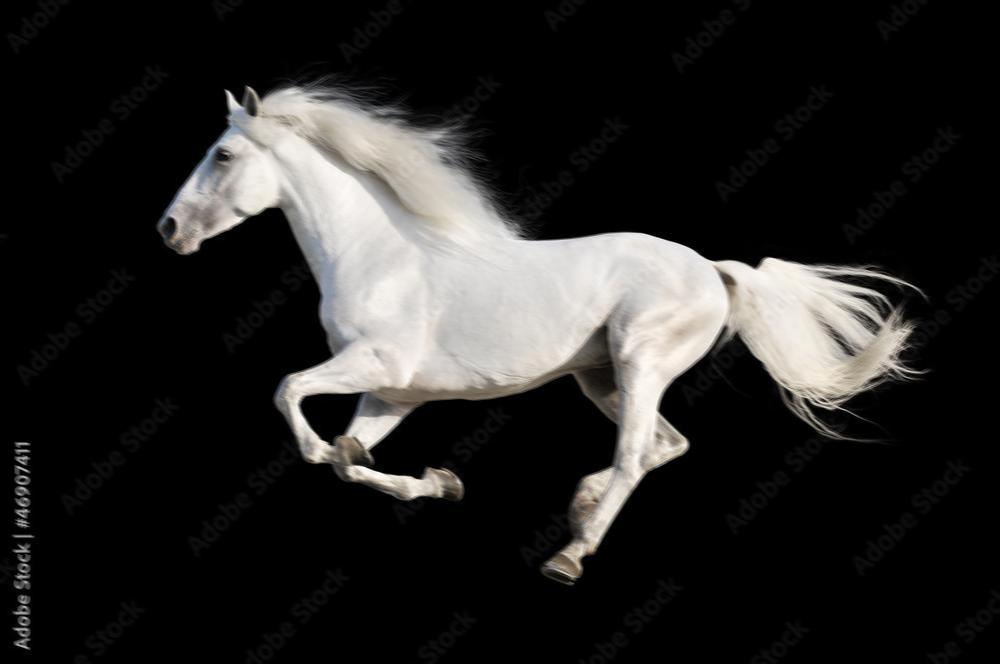horse: (147, 66, 941, 587)
